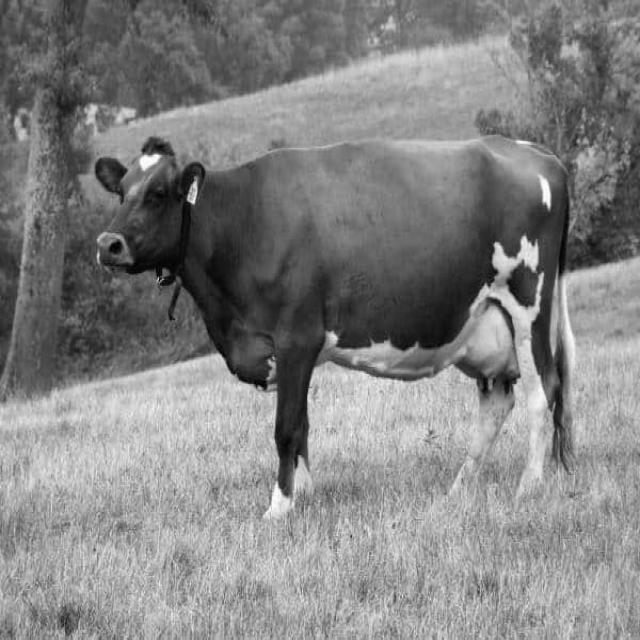Cow: (92, 130, 580, 524)
